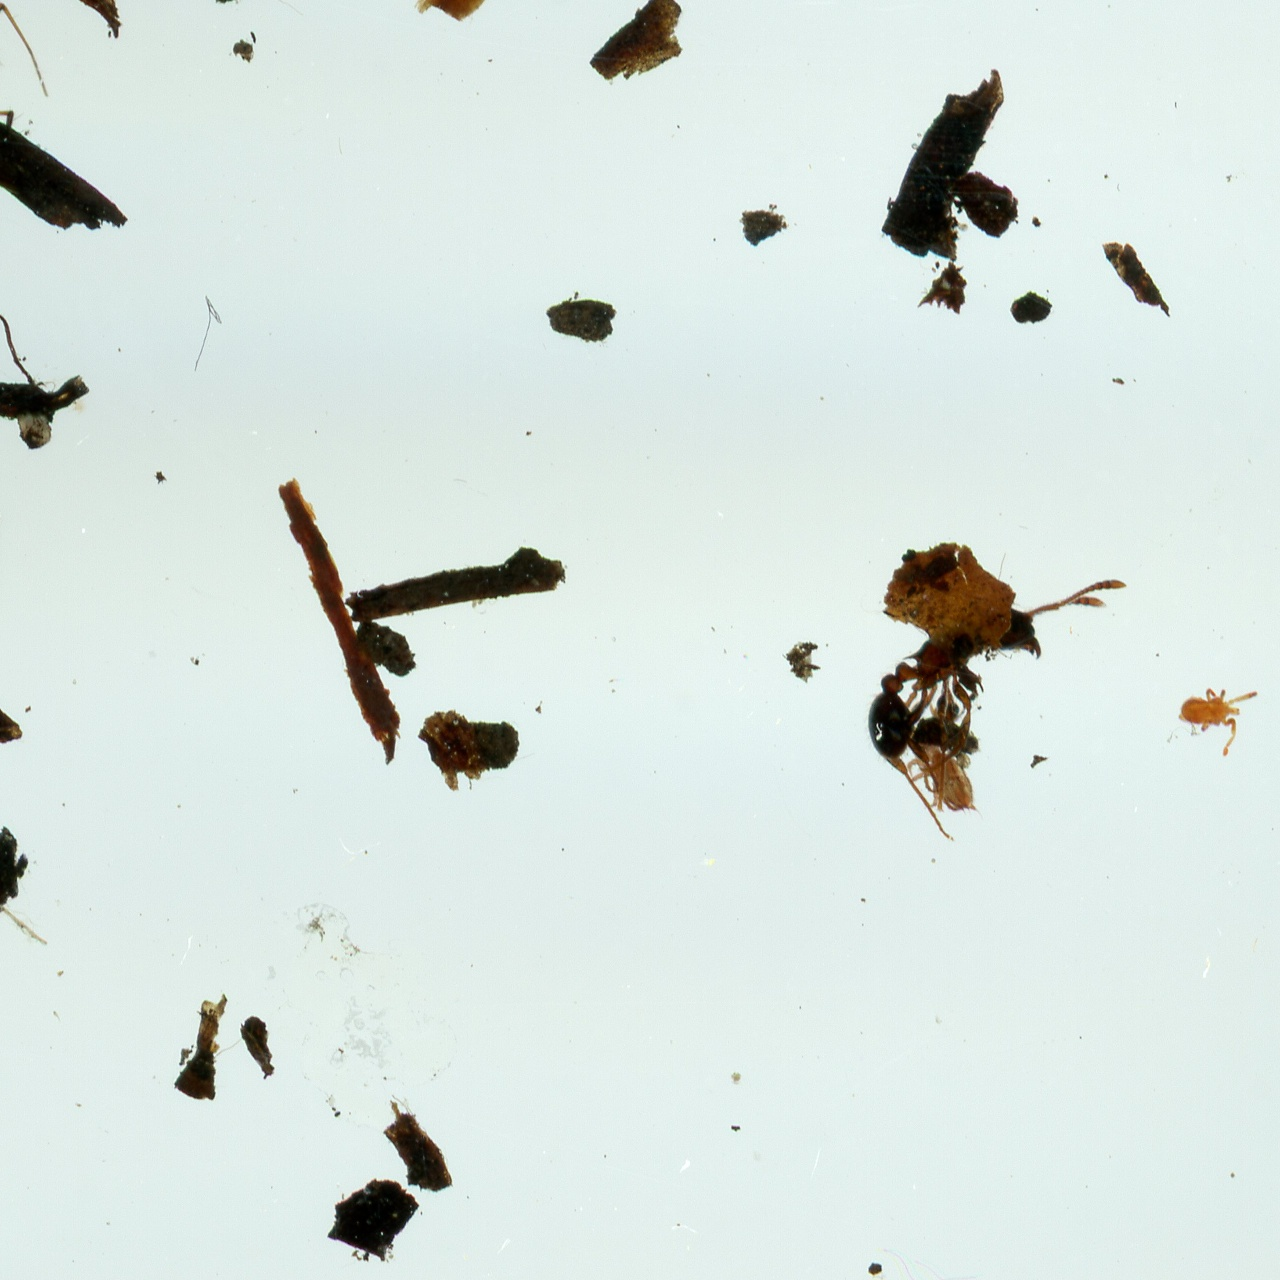arthropod: (822, 498, 1132, 874), (0, 0, 110, 307), (1177, 685, 1261, 758), (906, 754, 983, 816)
